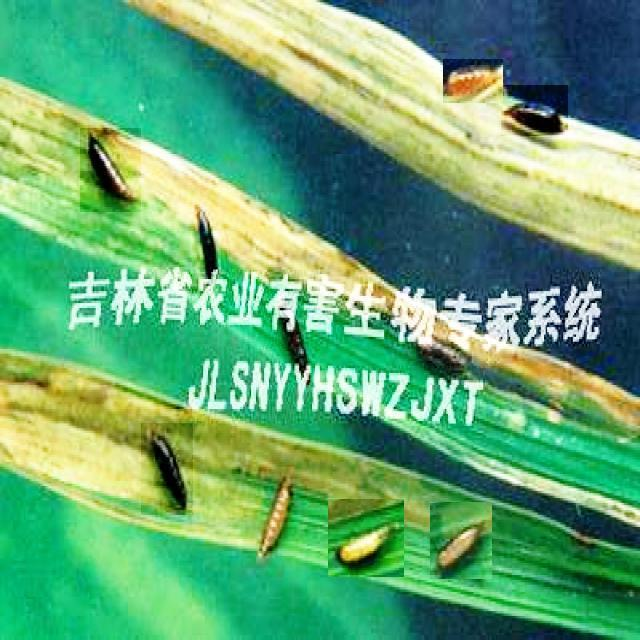whorl-maggot: (328, 499, 404, 577), (241, 465, 298, 568), (80, 128, 141, 212), (141, 423, 193, 515), (430, 502, 492, 579), (501, 85, 568, 136), (443, 59, 503, 103), (190, 207, 221, 273)
